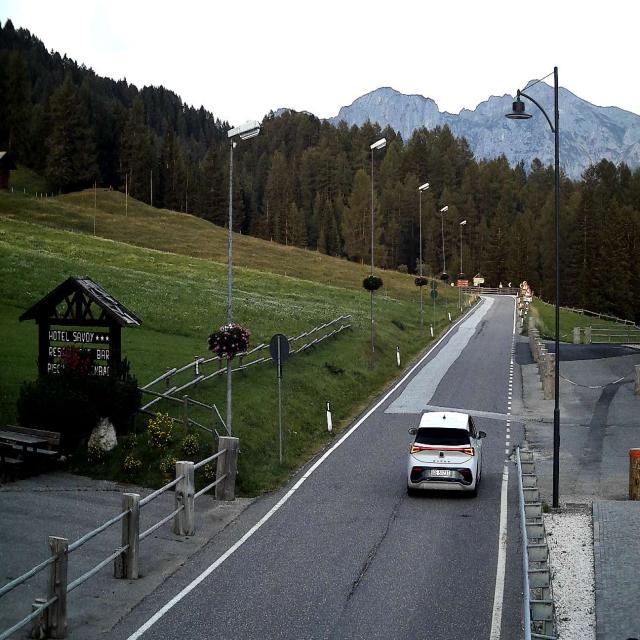car: (406, 408, 486, 495)
